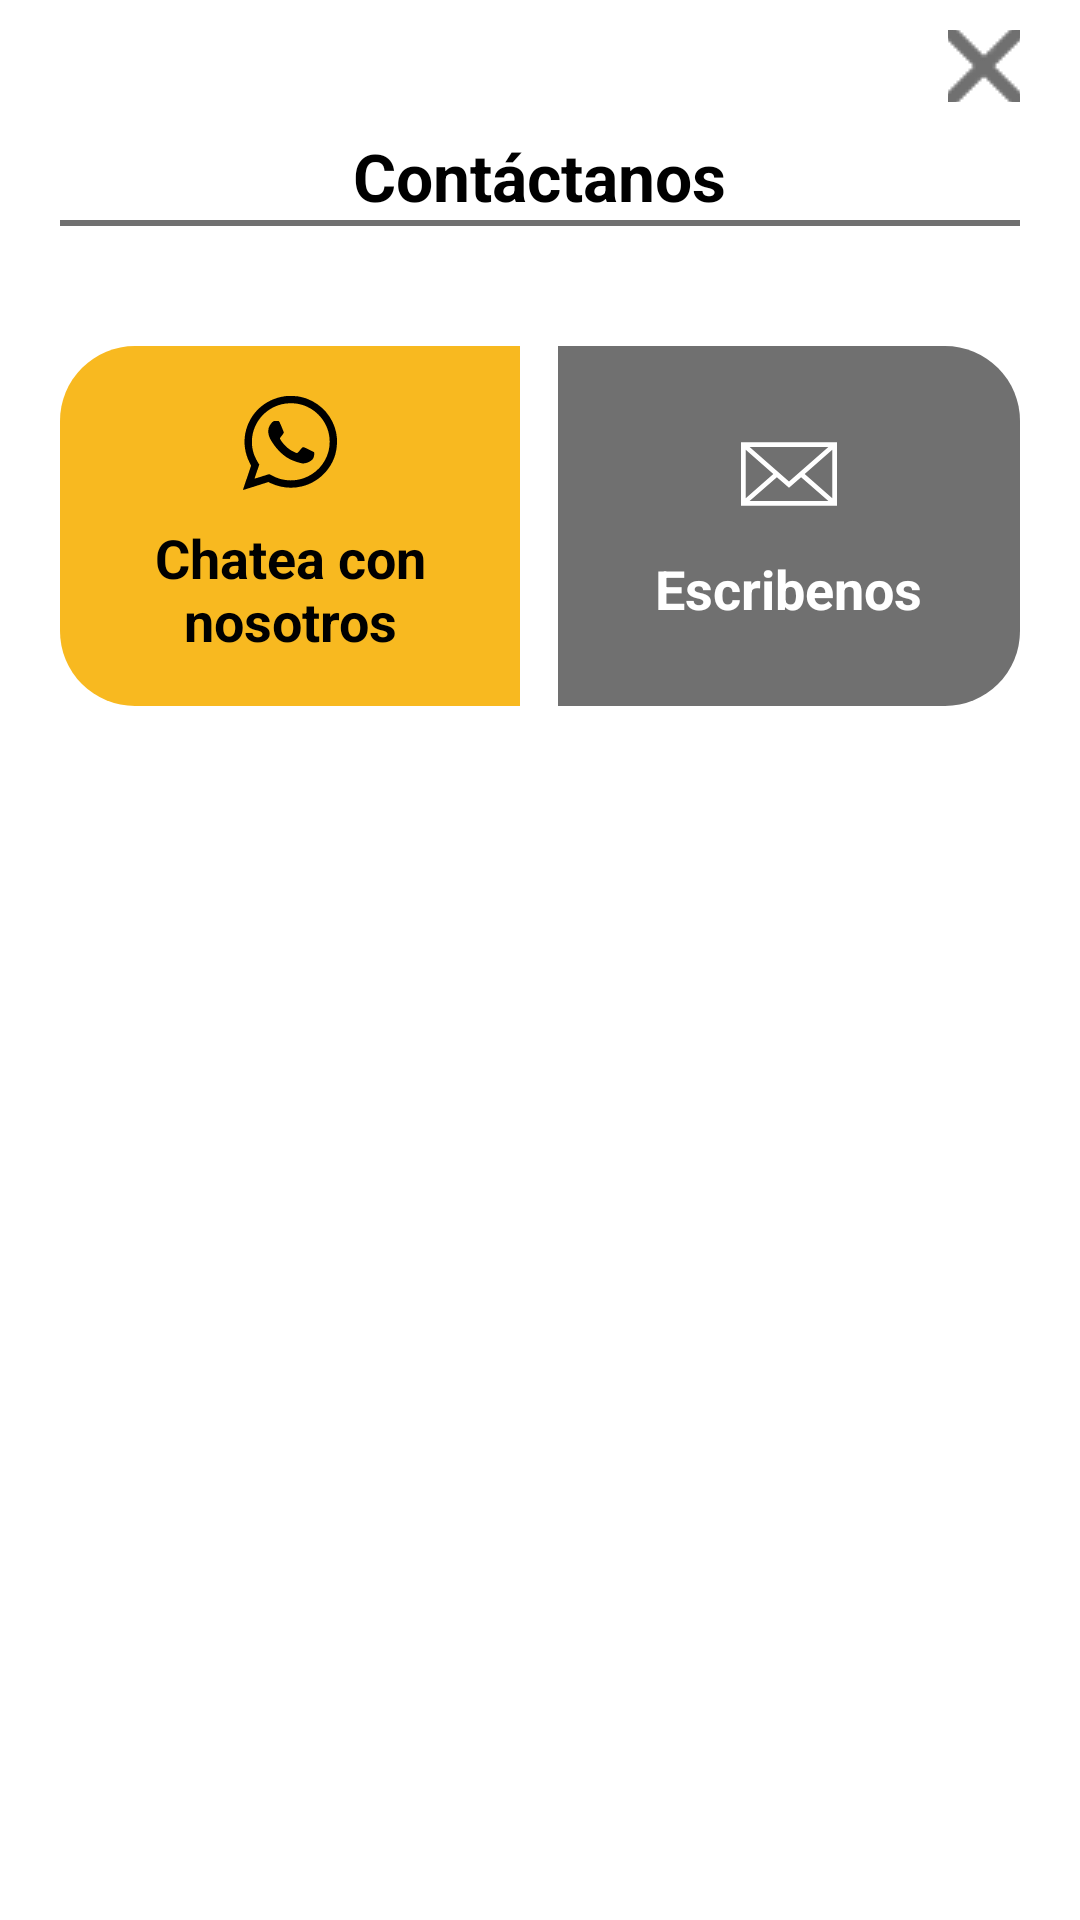

Icon click points for this 1080 × 1920 phone screenshot, format (x=x, y=y):
close: (x=984, y=66)
email: (x=789, y=474)
